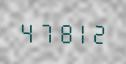eight: (54, 19, 71, 44)
four: (18, 19, 35, 43)
one: (72, 20, 89, 44)
seven: (36, 19, 53, 43)
two: (90, 20, 107, 44)
